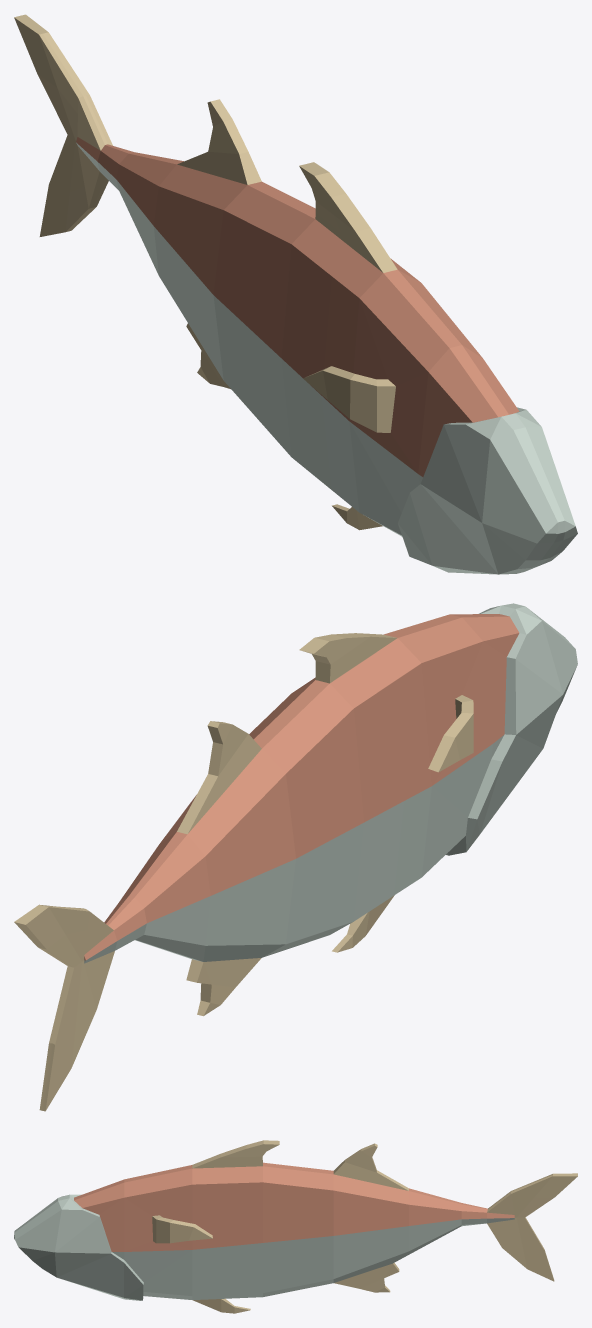
File: piscis.gltf
The picture shows the model from 3 angles, top to bottom: view 1: azimuth 30°, elevation 25°; view 2: azimuth 150°, elevation 25°; view 3: azimuth 270°, elevation 25°; orthographic projection. The views are drawn at different scales.
Visible parts, largest first — view 1: Fish; view 2: Fish; view 3: Fish.
Part boxes in pixels (box(x1,y1,x2,y2)): Fish: box(14, 14, 577, 574); Fish: box(14, 603, 577, 1111); Fish: box(14, 1140, 577, 1313).
Bounding box in the file's own units: 1.15 × 2.67 × 7.98.
